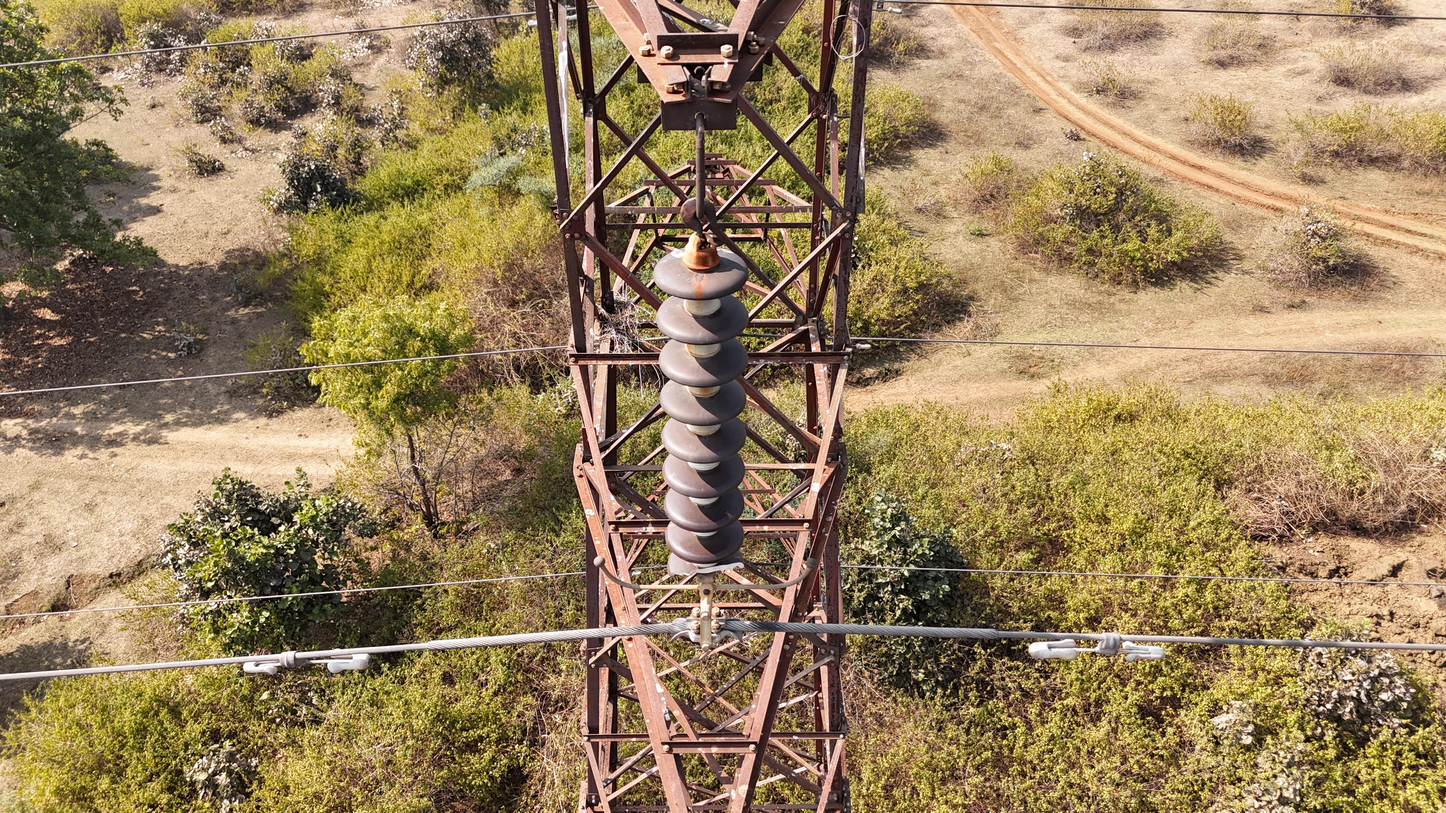broken_insulator: (665, 553, 746, 581)
